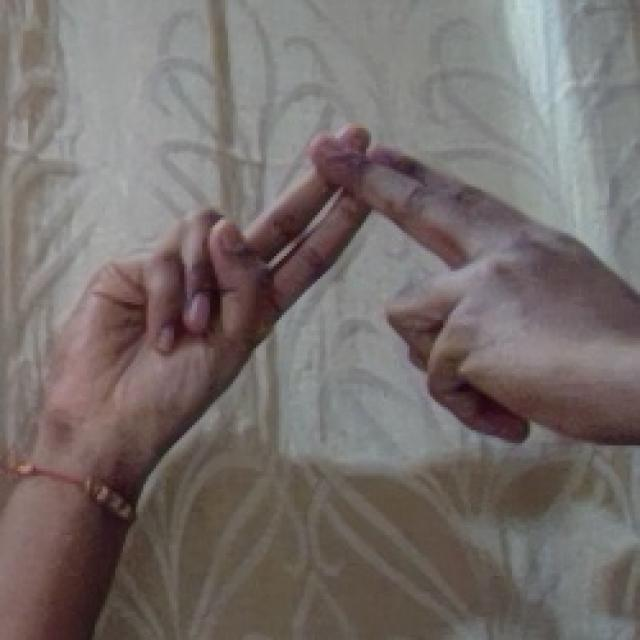Alphabet-F: (8, 116, 640, 508)
